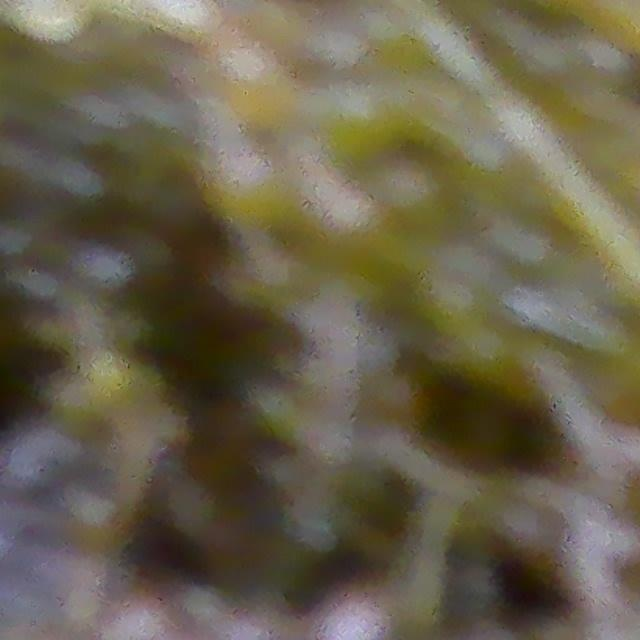SeaGrape: (324, 593, 382, 640), (119, 596, 166, 640)
